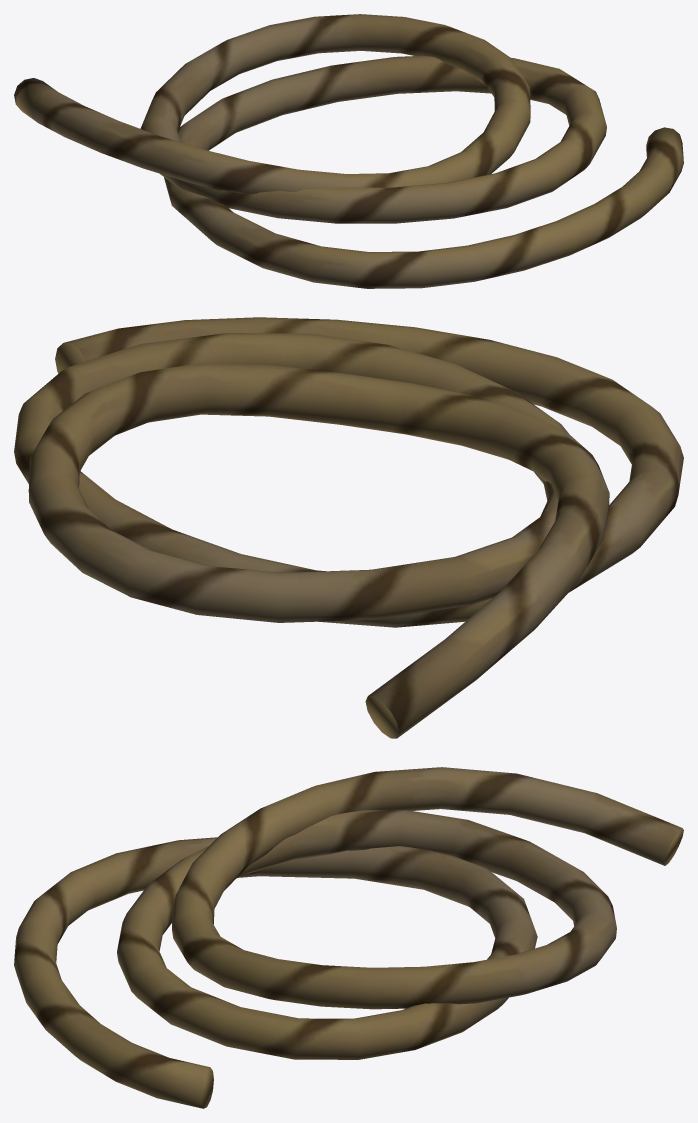
File: Rope_2.gltf
The picture shows the model from 3 angles, top to bottom: view 1: azimuth 30°, elevation 25°; view 2: azimuth 150°, elevation 25°; view 3: azimuth 270°, elevation 25°; orthographic projection. The views are drawn at different scales.
Parts seen in each view (by area): view 1: Rope_2; view 2: Rope_2; view 3: Rope_2.
Part boxes in pixels (x1,y1,x2,y2): Rope_2: (14,14,683,288); Rope_2: (14,317,683,738); Rope_2: (14,767,683,1108).
Bounding box in the file's own units: 0.8078 × 0.1236 × 0.845.
1 material, 1 textured.
